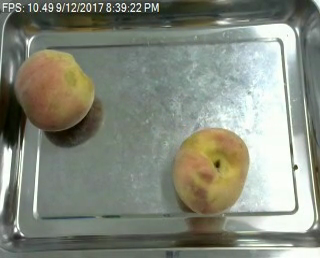Peach: (14, 48, 95, 133), (170, 126, 247, 215)
